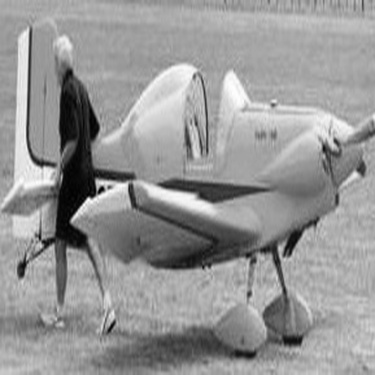airplane: (5, 3, 368, 369)
